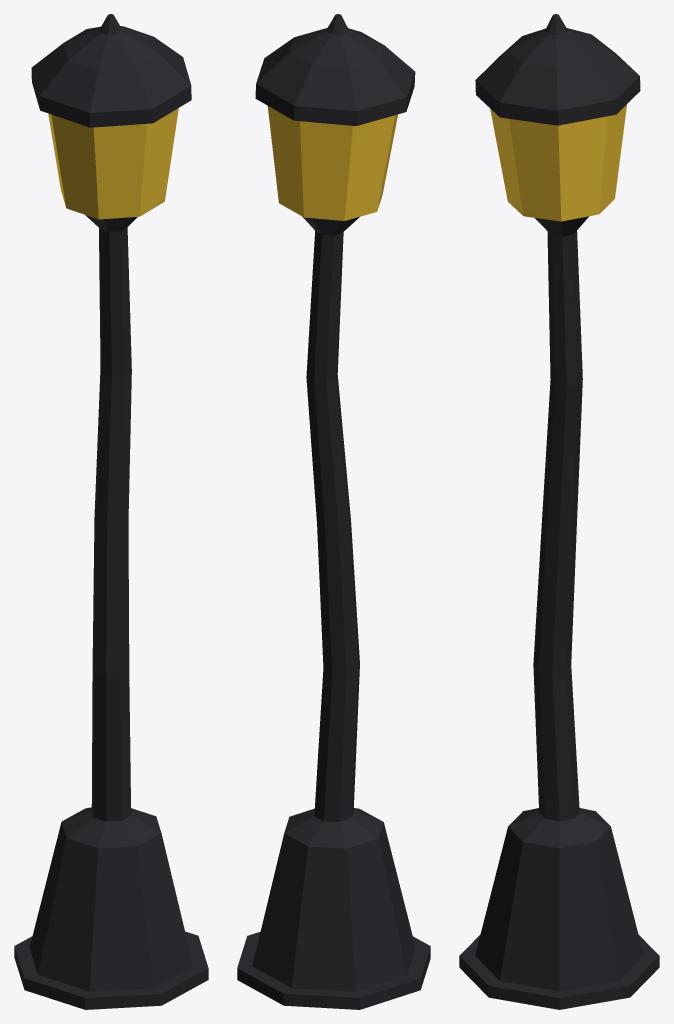
File: streetLightSmall.obj
3 views of the same model, side by side, from view 1: azimuth 30°, elevation 25°; view 2: azimuth 150°, elevation 25°; view 3: azimuth 270°, elevation 25° (orthographic).
Visible parts, largest first — view 1: Cylinder.001; view 2: Cylinder.001; view 3: Cylinder.001.
Boxes of the visible parts, x1=… form: Cylinder.001: x1=14, y1=14, x2=208, y2=1009; Cylinder.001: x1=237, y1=14, x2=430, y2=1009; Cylinder.001: x1=459, y1=14, x2=659, y2=1009.
Size of the model in its own units: 2 by 10.5 by 2.
